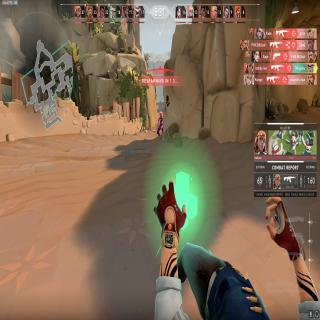ENEMY-BODY: (157, 110, 163, 136)
ENEMY-HEAD: (160, 111, 162, 117)
